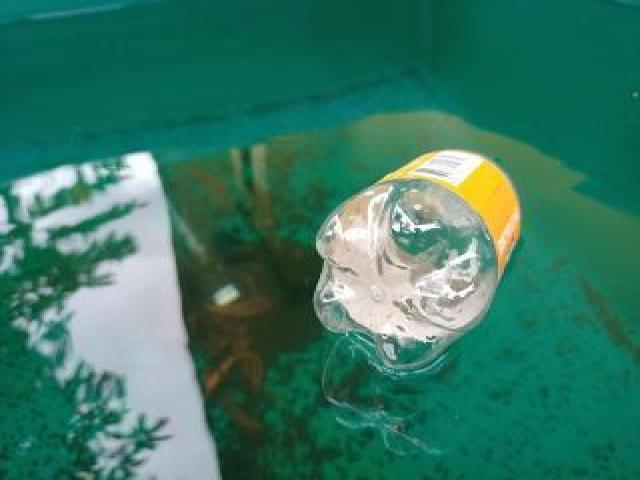Bottle: (310, 150, 524, 374)
